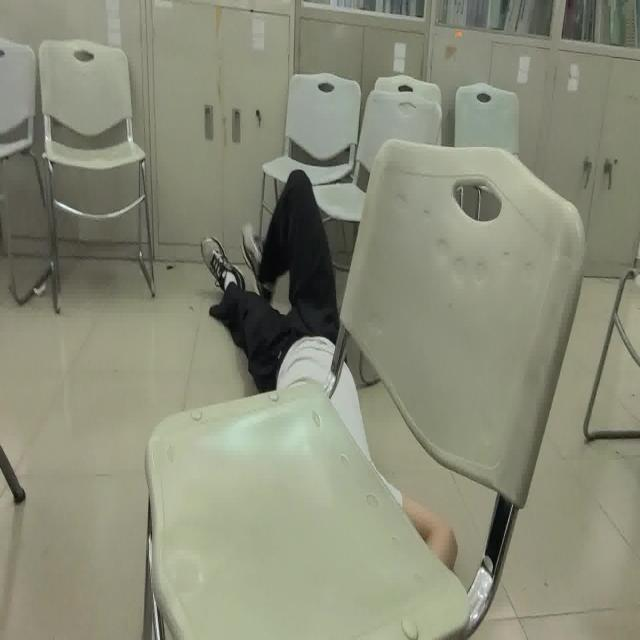fall: (198, 163, 462, 595)
